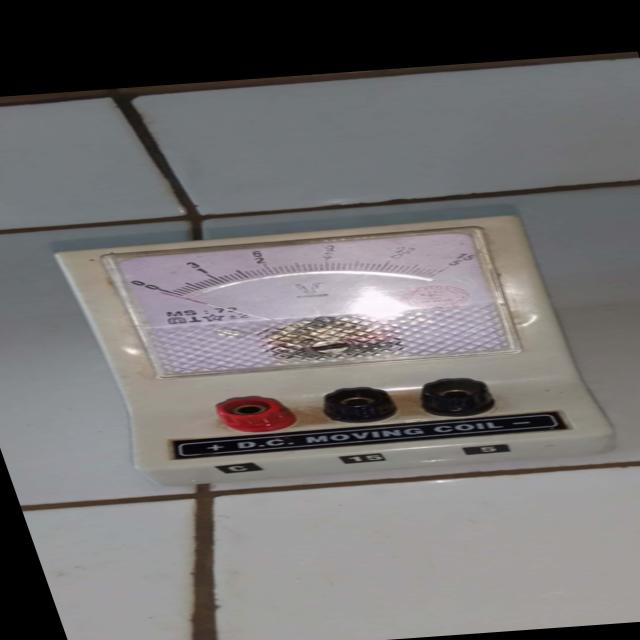Analog Voltmeter: (1, 198, 640, 506)
